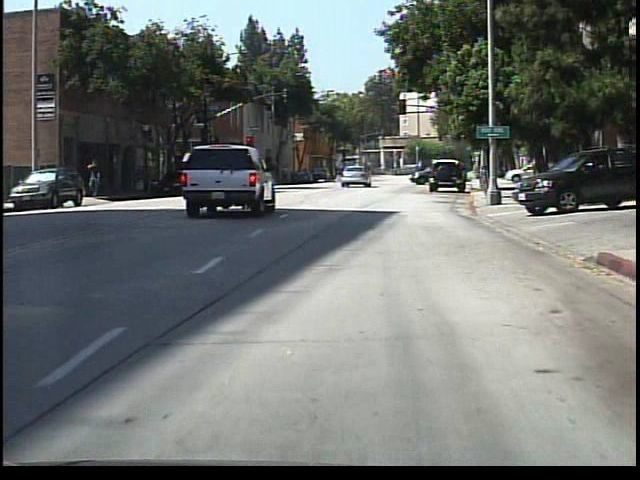person: (86, 158, 107, 200), (484, 154, 499, 182), (333, 163, 344, 186)
